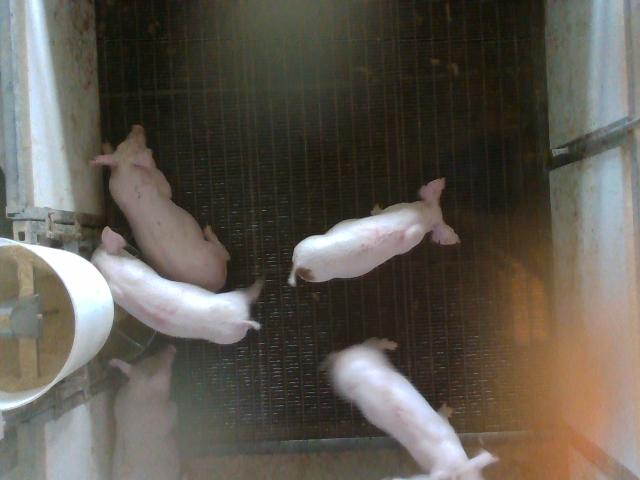pig-4: (91, 226, 262, 343)
pig-5: (288, 179, 459, 286)
